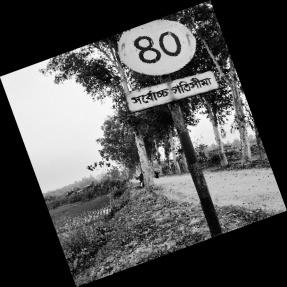Speed-limit: (116, 17, 221, 111)
